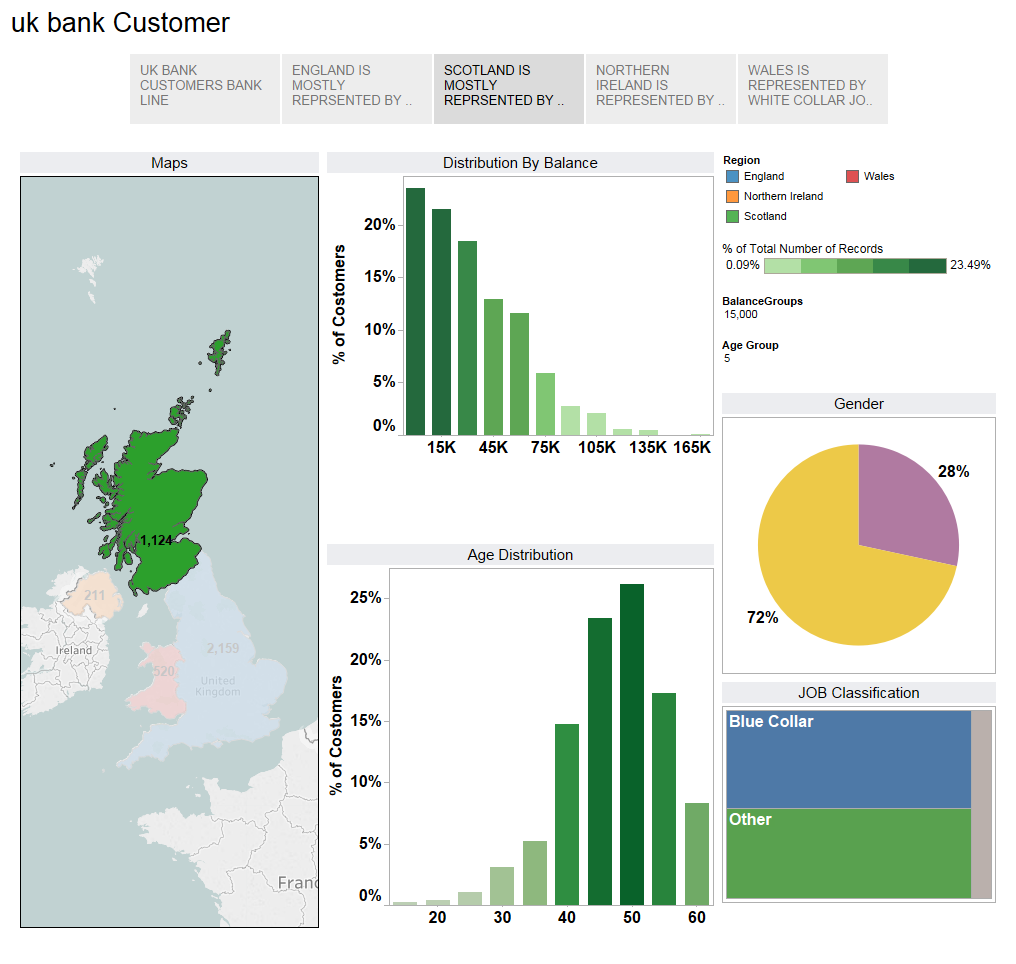

Layout of this report page (visuals, bound fields, positions):
{"tool":"tableau","page":{"name":"Costomer Segmentation","canvas":[1000,800],"ordinal":0},"visuals":[{"type":"worksheet","title":"Maps","mark":"Multipolygon","box":[8,8,306.9,784]},{"type":"worksheet","title":"Distribution By Balance ","mark":"Automatic","rows":["Number of Records"],"cols":["Balance (bin)"],"box":[314.9,8,395.1,392]},{"type":"legend","title":"Maps","param":"[federated.06w1h3n15af2w2138ys471fpdggo].[none:Region:nk]","box":[710,8,282,86]},{"type":"legend","title":"Distribution By Balance ","param":"[federated.06w1h3n15af2w2138ys471fpdggo].[pcto:sum:Number of Records:qk]","box":[710,94,282,56]},{"type":"parameter","param":"[Parameters].[Parameter 1]","box":[710,150,282,44]},{"type":"parameter","param":"[Parameters].[Parameter 2]","box":[710,194,282,55]},{"type":"worksheet","title":"Gender","mark":"Pie","box":[710,249,282,289]},{"type":"worksheet","title":"Age Distribution","mark":"Bar","rows":["Number of Records"],"cols":["Age (bin)"],"box":[314.9,400,395.1,392]},{"type":"worksheet","title":"JOB Classification","mark":"Automatic","box":[710,538,282,254]}]}

Visuals, with their boxes on the page's 1000x800 design canvas (x1, y1, x2, y2). These are canvas units, not pixel positions in the 1016x964 screenshot, which may show the page scaled, cropped or inside an application window:
"Maps" worksheet (Multipolygon marks): x1=8, y1=8, x2=315, y2=792
"Distribution By Balance " worksheet: x1=315, y1=8, x2=710, y2=400
"Maps" legend: x1=710, y1=8, x2=992, y2=94
"Distribution By Balance " legend: x1=710, y1=94, x2=992, y2=150
parameter: x1=710, y1=150, x2=992, y2=194
parameter: x1=710, y1=194, x2=992, y2=249
"Gender" worksheet (Pie marks): x1=710, y1=249, x2=992, y2=538
"Age Distribution" worksheet (Bar marks): x1=315, y1=400, x2=710, y2=792
"JOB Classification" worksheet: x1=710, y1=538, x2=992, y2=792
